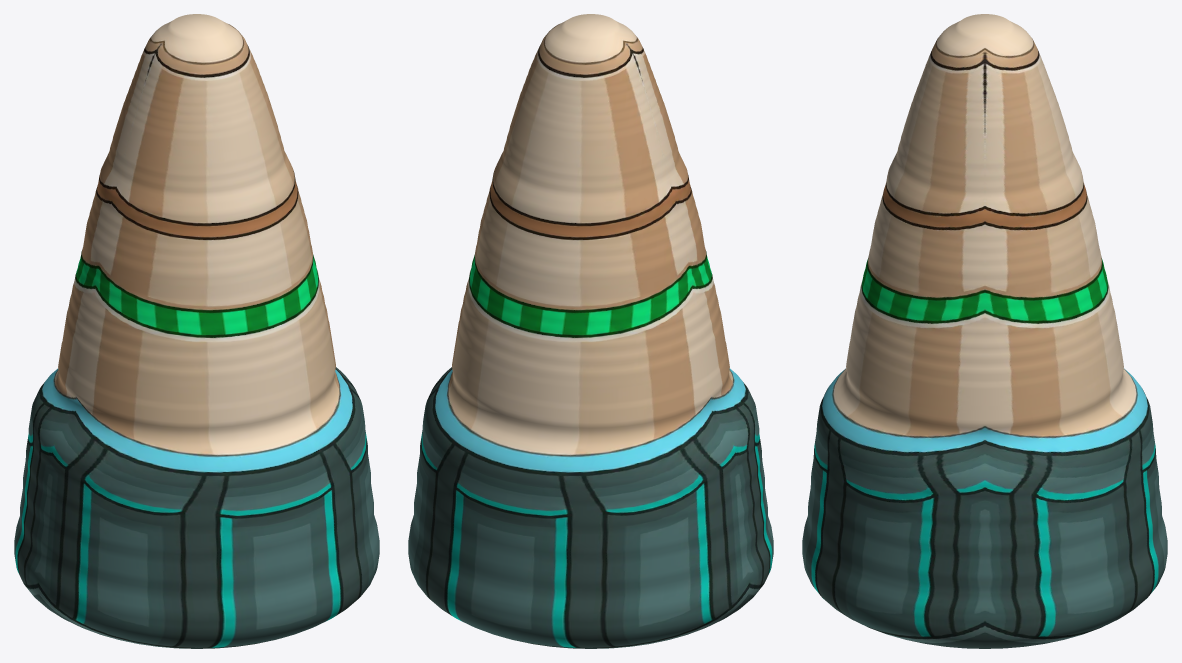
File: reactor_column.glb
3 views of the same model, side by side, from view 1: azimuth 30°, elevation 25°; view 2: azimuth 150°, elevation 25°; view 3: azimuth 270°, elevation 25° (orthographic).
Parts seen in each view (by area): view 1: reactor_column; view 2: reactor_column; view 3: reactor_column.
Part boxes in pixels (x1,y1,x2,y2): reactor_column: (14,14,379,648); reactor_column: (408,14,773,648); reactor_column: (802,14,1167,648).
Size of the model in its own units: 1 by 1.76 by 1.
Materials: 1 (1 with a texture image).
